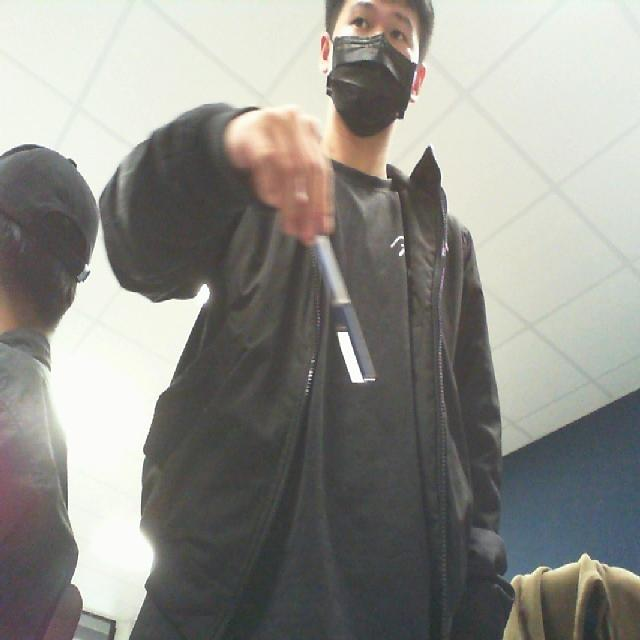Pen: (294, 204, 382, 408)
